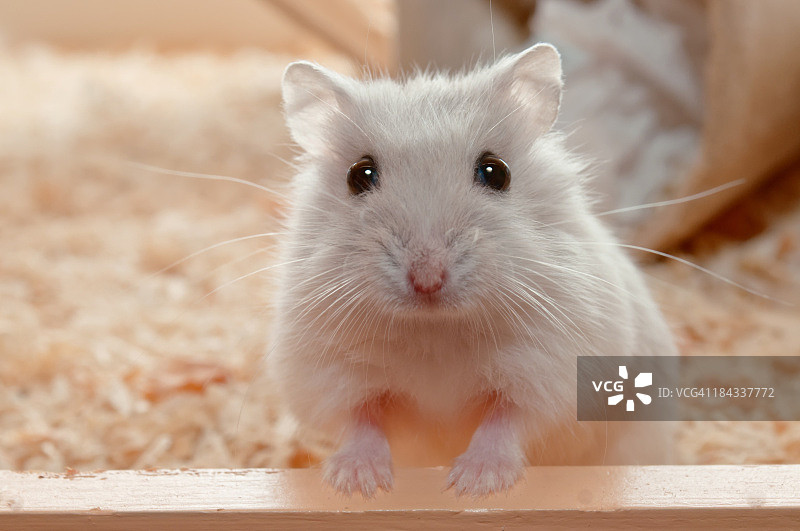mouse: (266, 38, 679, 493)
